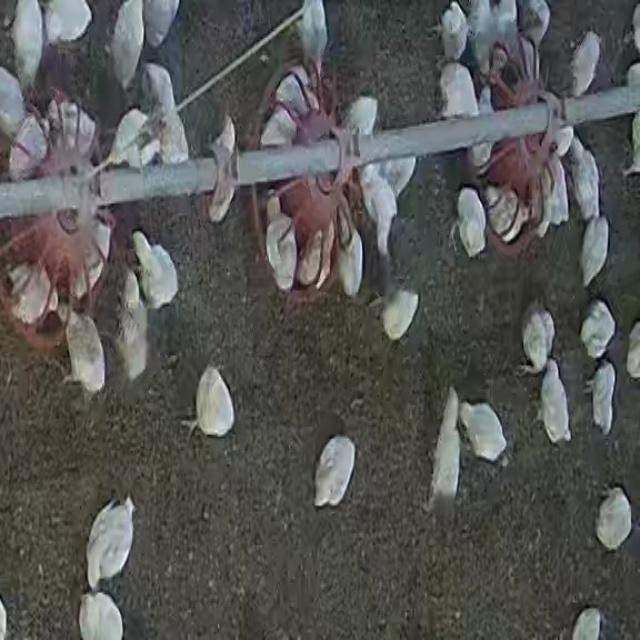chicken: (423, 377, 460, 514), (85, 496, 137, 590), (182, 361, 237, 440), (116, 269, 153, 384), (130, 230, 180, 310), (63, 308, 107, 398), (310, 433, 357, 510), (7, 259, 54, 329), (458, 400, 508, 464), (264, 203, 298, 292), (377, 283, 424, 346), (7, 113, 52, 177), (272, 62, 322, 117), (297, 221, 339, 286), (518, 302, 554, 375), (454, 187, 488, 260), (596, 486, 632, 552), (567, 31, 601, 98), (580, 298, 616, 361), (580, 214, 610, 288), (78, 592, 124, 640)
